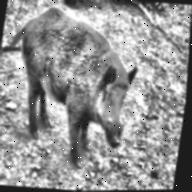boar: (0, 1, 147, 173)
